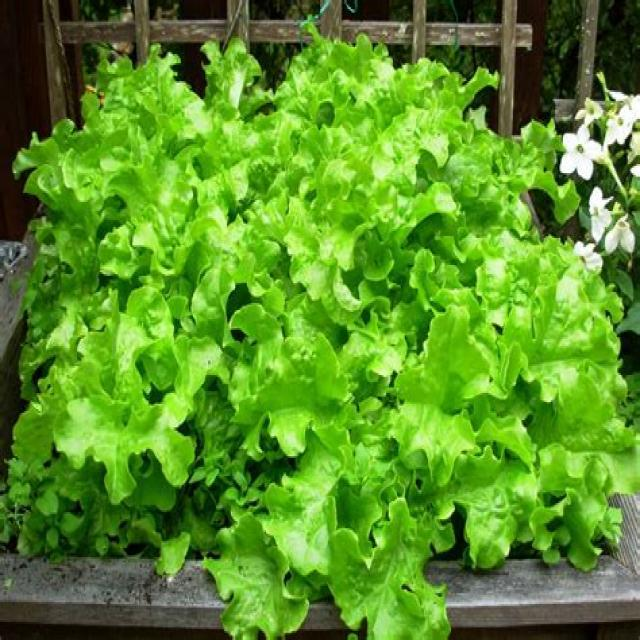Lettuce: (7, 37, 638, 640)
